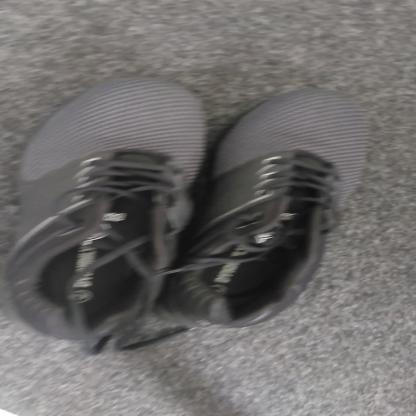safety-shoe: (3, 76, 370, 337)
